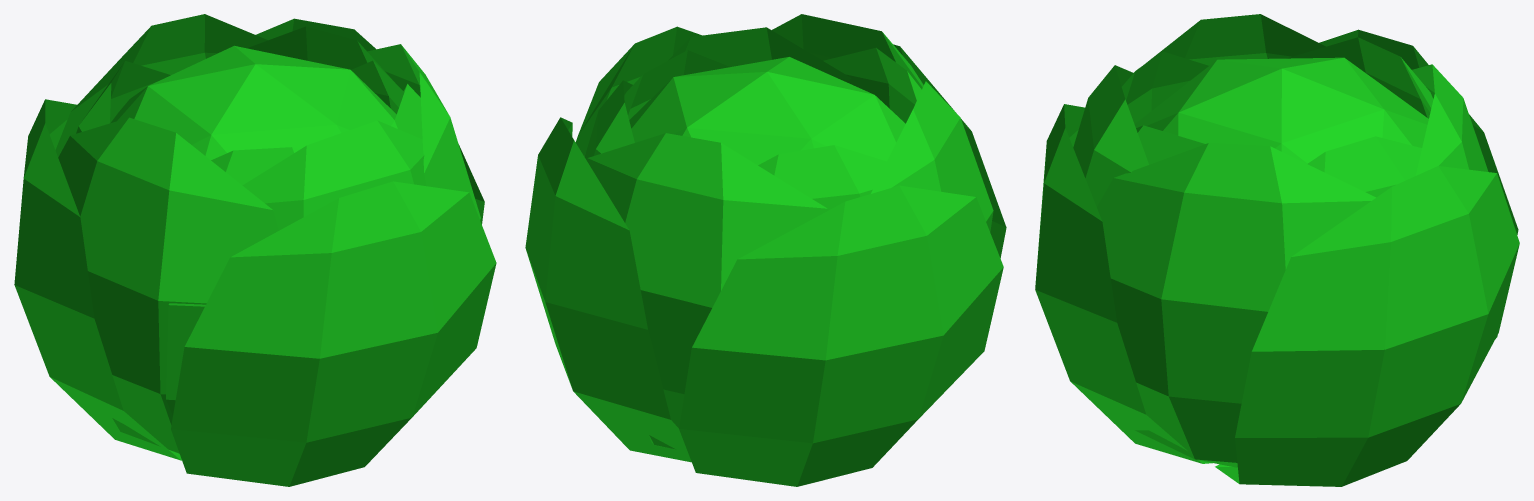
The model's file is Food_cabbage.glb.
3 views of the same model, side by side, from view 1: azimuth 30°, elevation 25°; view 2: azimuth 150°, elevation 25°; view 3: azimuth 270°, elevation 25° (orthographic).
Visible parts, largest first — view 1: Cabbage; view 2: Cabbage; view 3: Cabbage.
Boxes of the visible parts, x1,y1,x2,y2 form: Cabbage: (14, 14, 496, 486); Cabbage: (525, 14, 1006, 486); Cabbage: (1035, 14, 1519, 486).
Bounding box in the file's own units: 0.2452 × 0.217 × 0.2431.
1 material, 1 textured.
